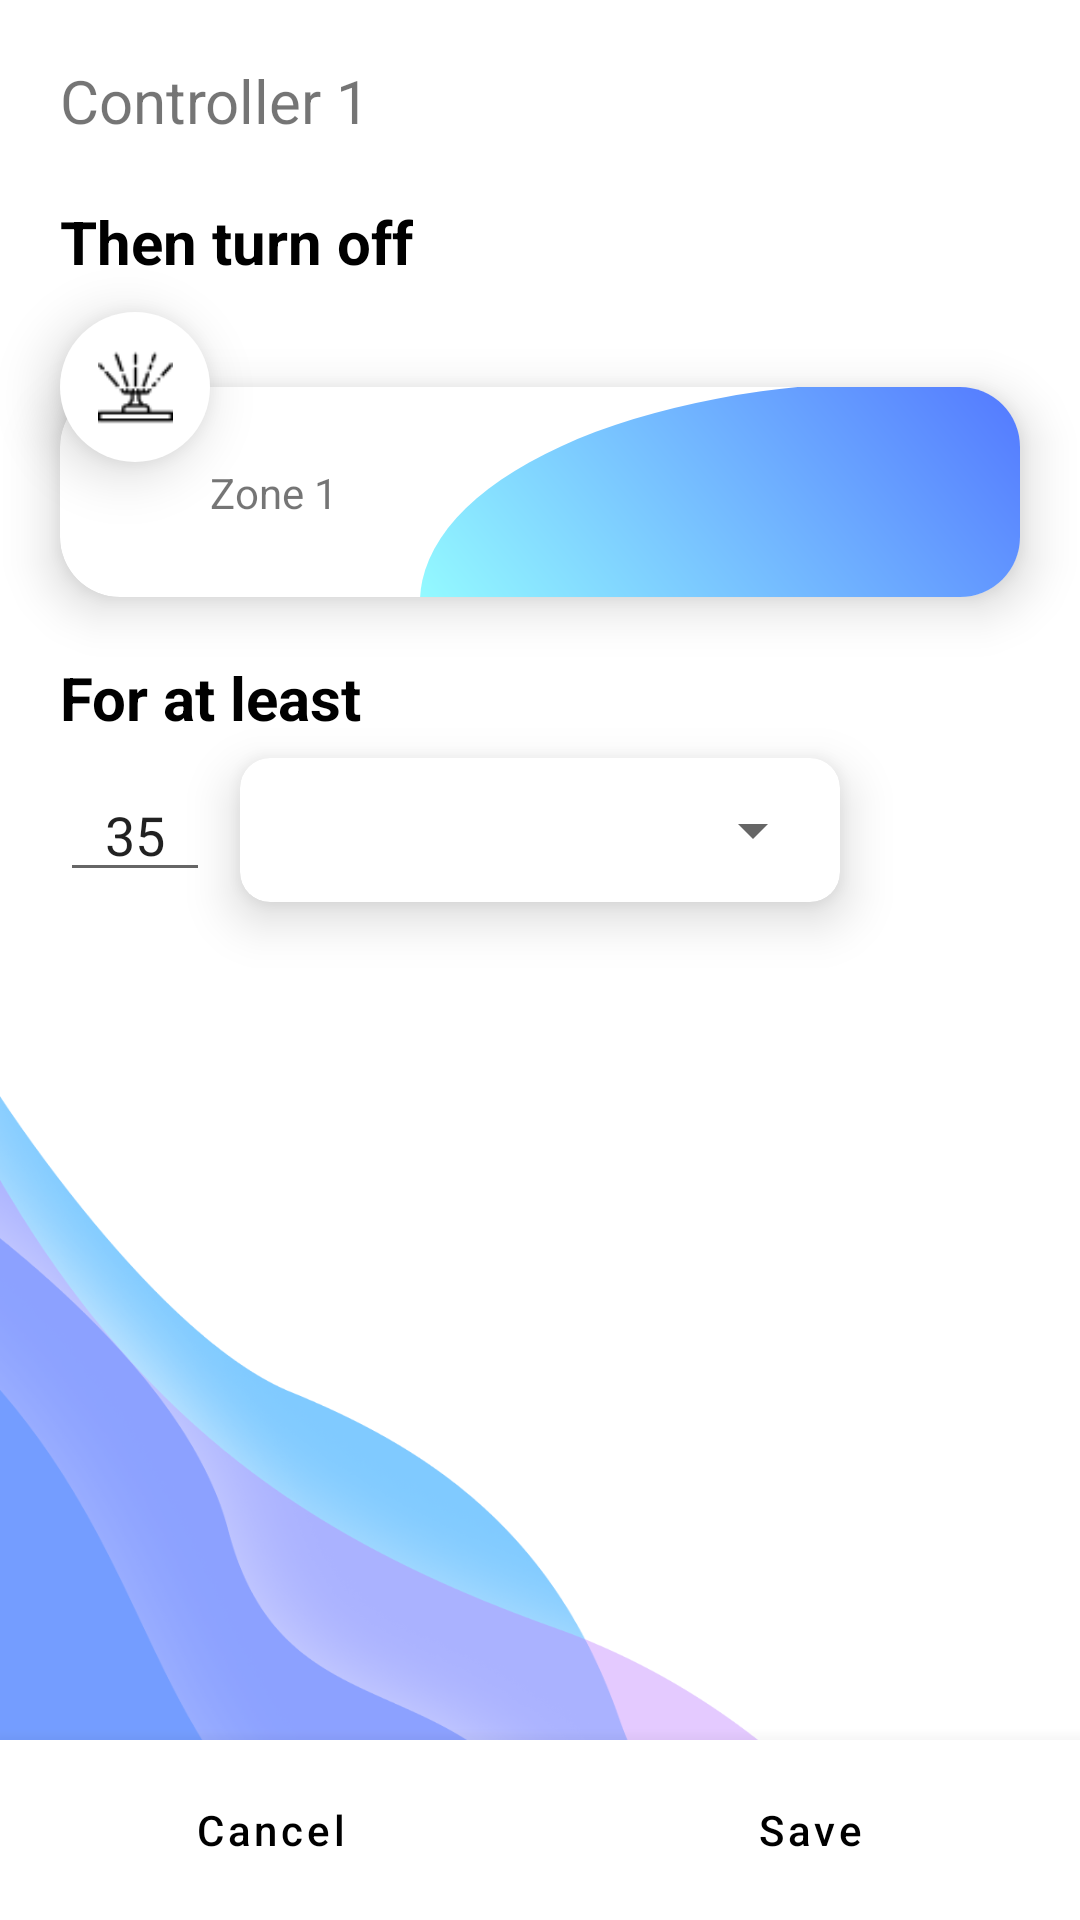

Where icons sit on this 1080w x 1920h app screen, as (x1, y1, x2, y2):
sprinkler: (98, 352, 173, 423)
